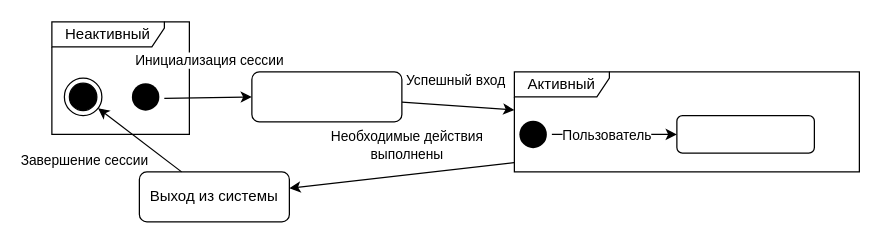
Some shapes in this 883 by 244 pixel diagram are drawn without their labels. The centre of each missing label's shape, as x and y in pixels:
Вход в систему: [326,96]
Сессия: [745,133]
